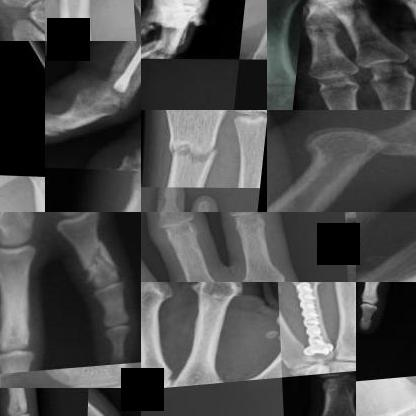fracture: (303, 110, 415, 179), (280, 282, 340, 365), (165, 121, 235, 186), (100, 41, 140, 100), (78, 241, 124, 290), (141, 7, 182, 59), (0, 173, 21, 206), (98, 27, 135, 40)
